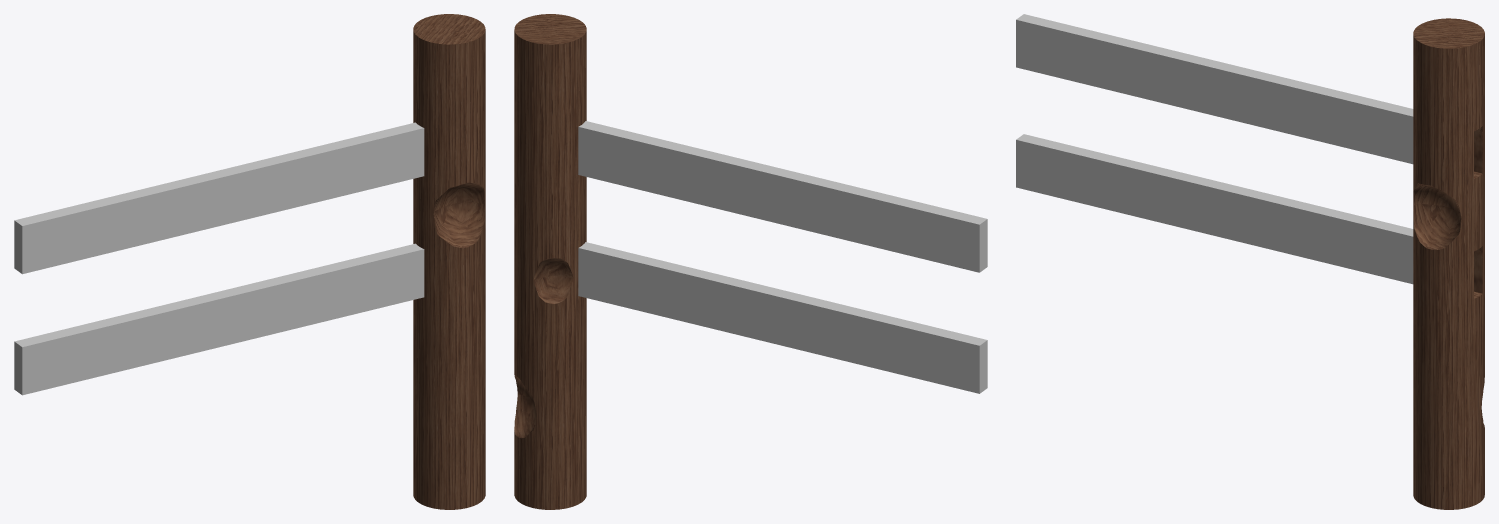
File: Fence.fbx
3 views of the same model, side by side, from view 1: azimuth 30°, elevation 25°; view 2: azimuth 150°, elevation 25°; view 3: azimuth 330°, elevation 25° (orthographic).
Parts seen in each view (by area): view 1: Fence; view 2: Fence; view 3: Fence.
Boxes of the visible parts, <box> form: Fence: <box>14,14,485,509</box>; Fence: <box>514,14,987,509</box>; Fence: <box>1016,14,1484,509</box>.
Size of the model in its own units: 65.86 by 63.2 by 8.92.
